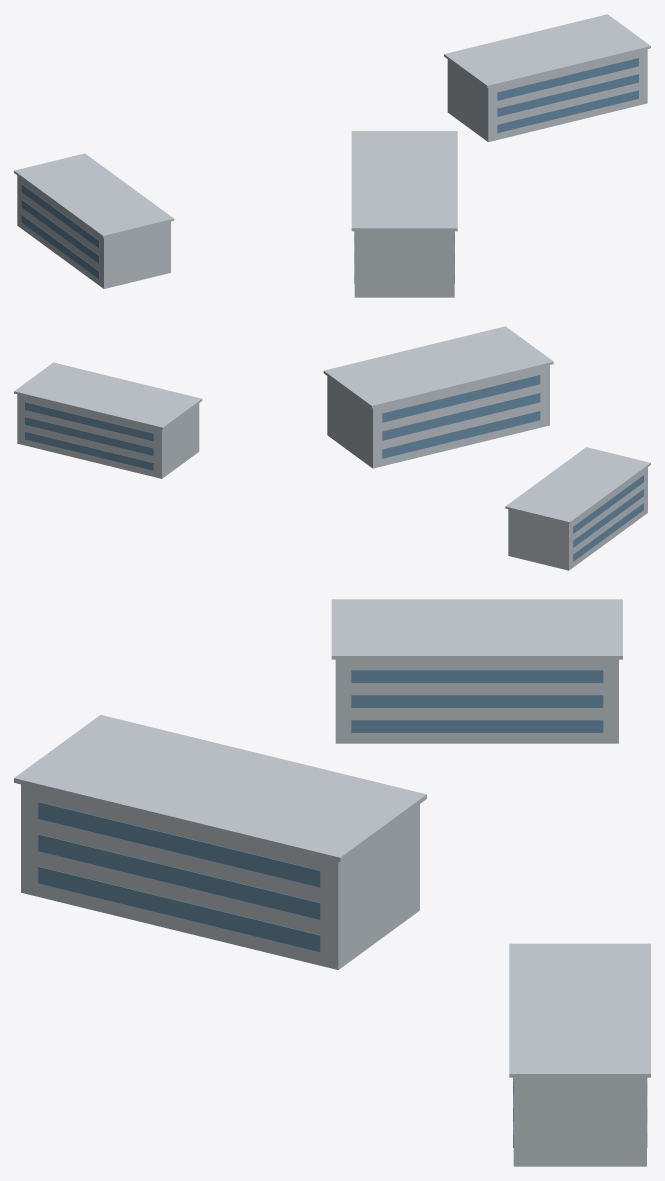
File: GeoSandbox_AI装配.glb
3 views of the same model, one above another, from view 1: azimuth 30°, elevation 25°; view 2: azimuth 150°, elevation 25°; view 3: azimuth 270°, elevation 25° (orthographic). The views are drawn at different scales.
Visible parts, largest first — view 1: 教学楼 A 1/Roof cap, 教学楼 A 2/Main block, 教学楼 A 2/Roof cap, 教学楼 A 1/Main block, 教学楼 A 3/Roof cap, 教学楼 A 3/Main block, 教学楼 A 2/Window strip 8.03 floor 0, 教学楼 A 2/Window strip 8.03 floor 2, 教学楼 A 2/Window strip 8.03 floor 1, 教学楼 A 3/Window strip -8.03 floor 0, 教学楼 A 3/Window strip -8.03 floor 2, 教学楼 A 3/Window strip -8.03 floor 1; view 2: 教学楼 A 1/Main block, 教学楼 A 1/Roof cap, 教学楼 A 2/Main block, 教学楼 A 2/Roof cap, 教学楼 A 3/Roof cap, 教学楼 A 3/Main block, 教学楼 A 1/Window strip -8.03 floor 0, 教学楼 A 1/Window strip -8.03 floor 1, 教学楼 A 1/Window strip -8.03 floor 2, 教学楼 A 2/Window strip -8.03 floor 0, 教学楼 A 2/Window strip -8.03 floor 1, 教学楼 A 2/Window strip -8.03 floor 2 (+3 smaller); view 3: 教学楼 A 1/Roof cap, 教学楼 A 1/Main block, 教学楼 A 2/Roof cap, 教学楼 A 3/Roof cap, 教学楼 A 3/Main block, 教学楼 A 2/Main block, 教学楼 A 1/Window strip 8.03 floor 2, 教学楼 A 1/Window strip 8.03 floor 0, 教学楼 A 1/Window strip 8.03 floor 1, 教学楼 A 3/Window strip 8.03 floor 0, 教学楼 A 3/Window strip 8.03 floor 1, 教学楼 A 3/Window strip 8.03 floor 2.
Boxes of the visible parts, <box> form: 教学楼 A 1/Roof cap: <box>351,131,457,231</box>; 教学楼 A 2/Main block: <box>447,49,647,141</box>; 教学楼 A 2/Roof cap: <box>444,14,650,87</box>; 教学楼 A 1/Main block: <box>354,231,454,297</box>; 教学楼 A 3/Roof cap: <box>14,153,174,237</box>; 教学楼 A 3/Main block: <box>17,175,170,288</box>; 教学楼 A 2/Window strip 8.03 floor 0: <box>497,90,638,133</box>; 教学楼 A 2/Window strip 8.03 floor 2: <box>497,58,638,100</box>; 教学楼 A 2/Window strip 8.03 floor 1: <box>497,74,638,116</box>; 教学楼 A 3/Window strip -8.03 floor 0: <box>21,215,99,278</box>; 教学楼 A 3/Window strip -8.03 floor 2: <box>21,184,99,248</box>; 教学楼 A 3/Window strip -8.03 floor 1: <box>21,199,99,263</box>; 教学楼 A 1/Main block: <box>327,365,549,468</box>; 教学楼 A 1/Roof cap: <box>323,326,553,408</box>; 教学楼 A 2/Main block: <box>17,394,199,478</box>; 教学楼 A 2/Roof cap: <box>14,362,202,429</box>; 教学楼 A 3/Roof cap: <box>505,447,650,524</box>; 教学楼 A 3/Main block: <box>508,467,647,570</box>; 教学楼 A 1/Window strip -8.03 floor 0: <box>382,411,540,458</box>; 教学楼 A 1/Window strip -8.03 floor 1: <box>382,393,540,440</box>; 教学楼 A 1/Window strip -8.03 floor 2: <box>382,375,540,422</box>; 教学楼 A 2/Window strip -8.03 floor 0: <box>25,431,153,470</box>; 教学楼 A 2/Window strip -8.03 floor 1: <box>25,417,153,455</box>; 教学楼 A 2/Window strip -8.03 floor 2: <box>25,402,153,441</box>; 教学楼 A 1/Roof cap: <box>14,714,426,862</box>; 教学楼 A 1/Main block: <box>21,784,419,969</box>; 教学楼 A 2/Roof cap: <box>509,943,650,1077</box>; 教学楼 A 3/Roof cap: <box>331,599,622,659</box>; 教学楼 A 3/Main block: <box>335,659,618,743</box>; 教学楼 A 2/Main block: <box>513,1077,646,1166</box>; 教学楼 A 1/Window strip 8.03 floor 2: <box>38,802,320,887</box>; 教学楼 A 1/Window strip 8.03 floor 0: <box>38,866,320,952</box>; 教学楼 A 1/Window strip 8.03 floor 1: <box>38,834,320,919</box>; 教学楼 A 3/Window strip 8.03 floor 0: <box>351,720,603,732</box>; 教学楼 A 3/Window strip 8.03 floor 1: <box>351,695,603,707</box>; 教学楼 A 3/Window strip 8.03 floor 2: <box>351,670,603,682</box>.
Size of the model in its own units: 123 by 13.75 by 68.81.
